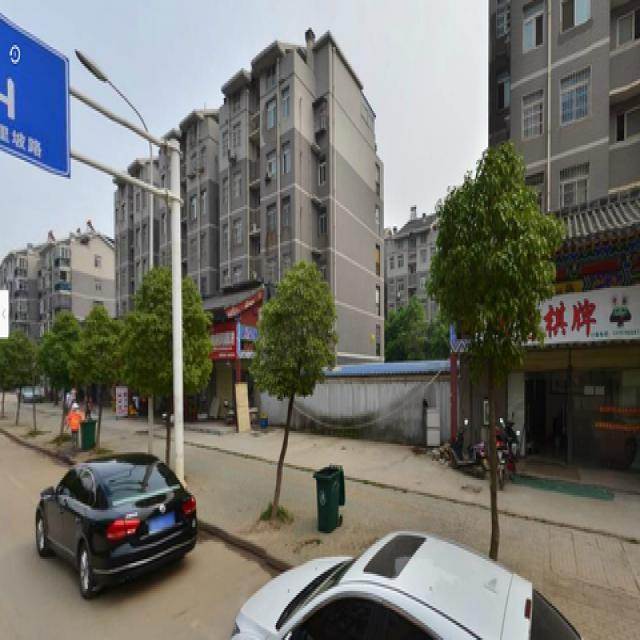cinn: (459, 186, 544, 524), (261, 278, 316, 516), (138, 278, 190, 468), (85, 324, 116, 461), (44, 324, 77, 438)
